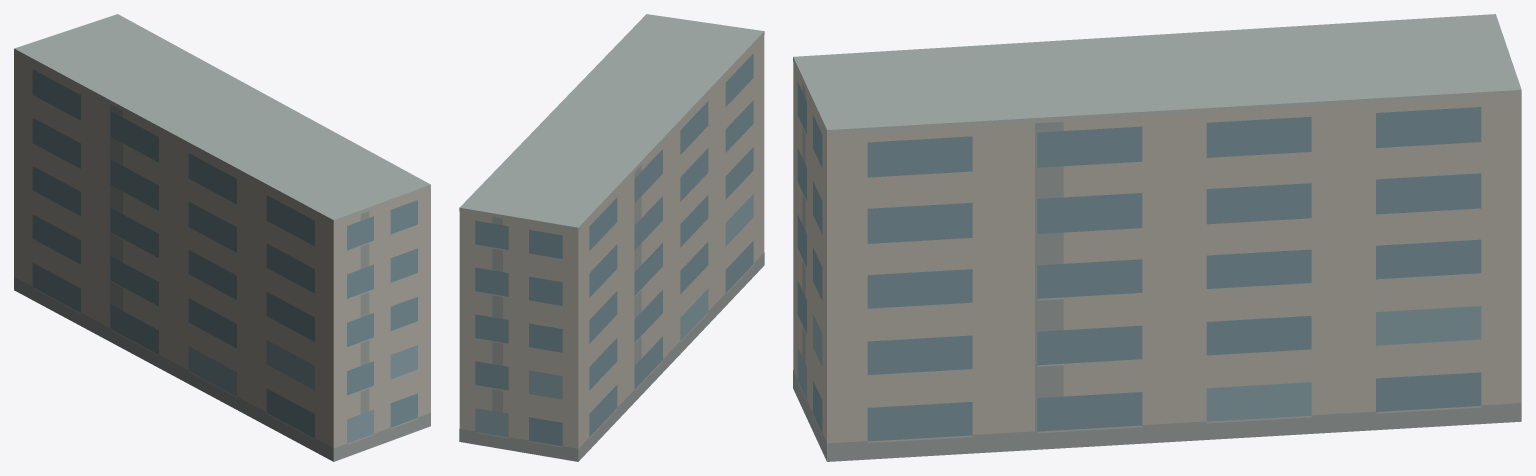
The model's file is survey-upis-32575243.glb.
3 views of the same model, side by side, from view 1: azimuth 30°, elevation 25°; view 2: azimuth 150°, elevation 25°; view 3: azimuth 270°, elevation 25° (orthographic). The views are drawn at different scales.
Parts seen in each view (by area): view 1: survey-upis-32575243.tmp; view 2: survey-upis-32575243.tmp; view 3: survey-upis-32575243.tmp.
Boxes of the visible parts, x1=… form: survey-upis-32575243.tmp: x1=14, y1=14, x2=430, y2=461; survey-upis-32575243.tmp: x1=459, y1=14, x2=764, y2=461; survey-upis-32575243.tmp: x1=793, y1=14, x2=1521, y2=461.
Bounding box in the file's own units: 11.45 × 15.25 × 30.35.
